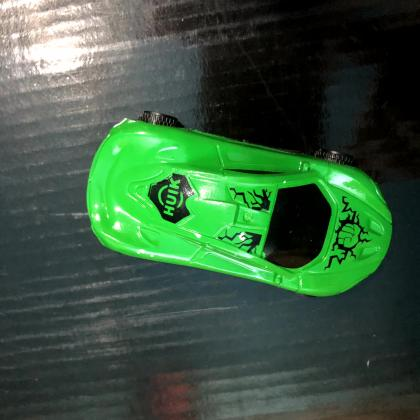Car: (84, 109, 396, 300)
